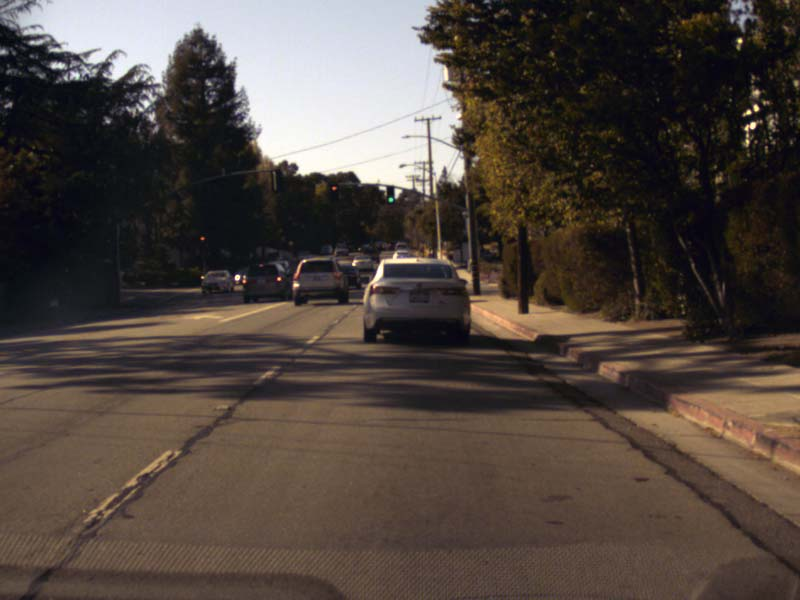Green: (386, 186, 394, 203)
Red: (329, 182, 339, 202), (199, 235, 205, 248)
